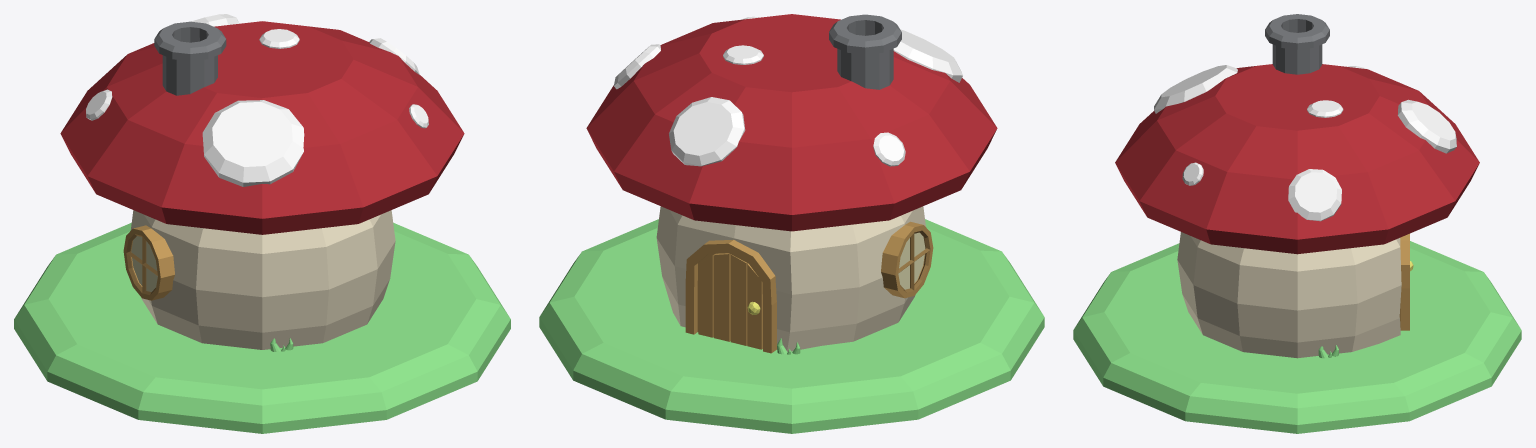
Rendered from mushroomhouseredfinal.fbx.
3 renders of one model, left to right at view 1: azimuth 30°, elevation 25°; view 2: azimuth 150°, elevation 25°; view 3: azimuth 270°, elevation 25°, orthographic. The views are drawn at different scales.
Visible parts, largest first — view 1: house, floor, dots, Circle, window, windowframe; view 2: house, floor, dots, door2, Circle, door, window, windowframe; view 3: house, floor, dots, Circle, door.
Part boxes in pixels (x1,y1,x2,y2): house: (60,21,464,349); floor: (14,223,510,433); dots: (86,14,428,186); Circle: (154,21,226,95); window: (123,225,174,300); windowframe: (126,234,157,294); house: (586,14,997,351); floor: (539,219,1044,433); dots: (614,16,962,166); door2: (698,253,762,349); Circle: (829,14,901,89); door: (685,239,776,353); window: (881,221,933,298); windowframe: (898,230,930,292); house: (1115,64,1479,358); floor: (1073,241,1521,433); dots: (1154,65,1456,221); Circle: (1265,14,1329,74); door: (1399,233,1409,330).
Size of the model in its own units: 600 by 416 by 600.
